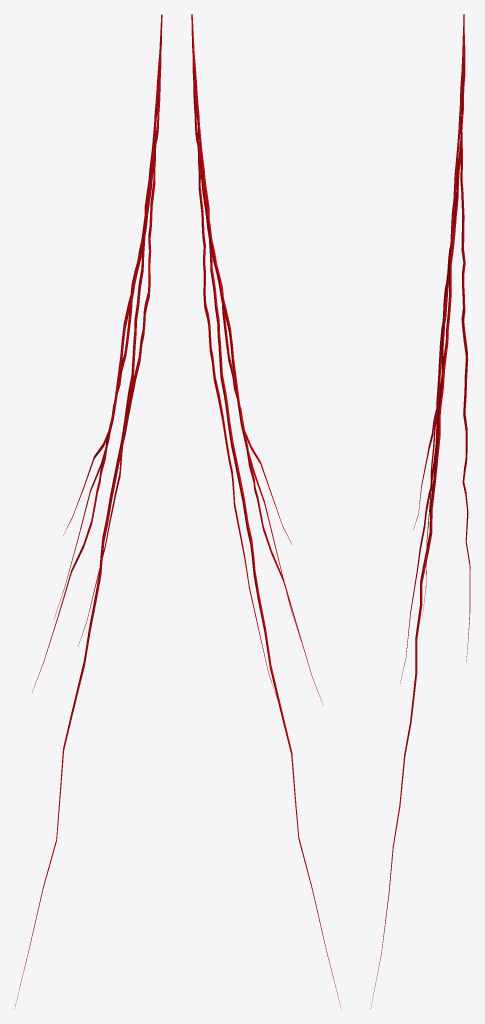
Rendered from Lightning bolt 4.fbx.
The picture shows the model from 3 angles, left to right: view 1: azimuth 30°, elevation 25°; view 2: azimuth 210°, elevation 25°; view 3: azimuth 330°, elevation 25°; orthographic projection. The views are drawn at different scales.
Visible parts, largest first — view 1: Lightning bolt 4; view 2: Lightning bolt 4; view 3: Lightning bolt 4.
Boxes of the visible parts, <box> form: Lightning bolt 4: <box>14,14,162,1009</box>; Lightning bolt 4: <box>191,14,341,1009</box>; Lightning bolt 4: <box>370,14,470,1008</box>.
Size of the model in its own units: 27.55 by 220 by 17.42.
